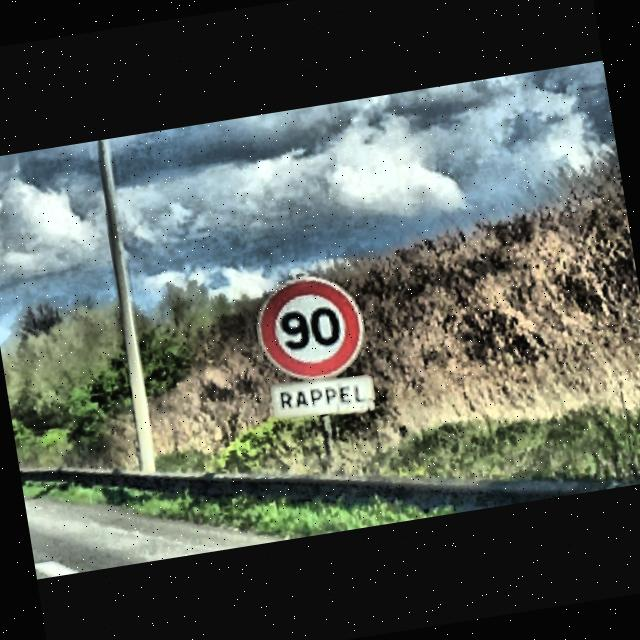speed_90: (248, 266, 372, 388)
